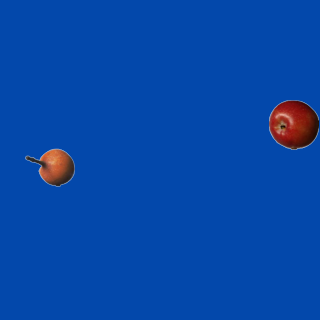Apple Braeburn: (268, 99, 318, 149)
Granadilla: (24, 142, 74, 192)
